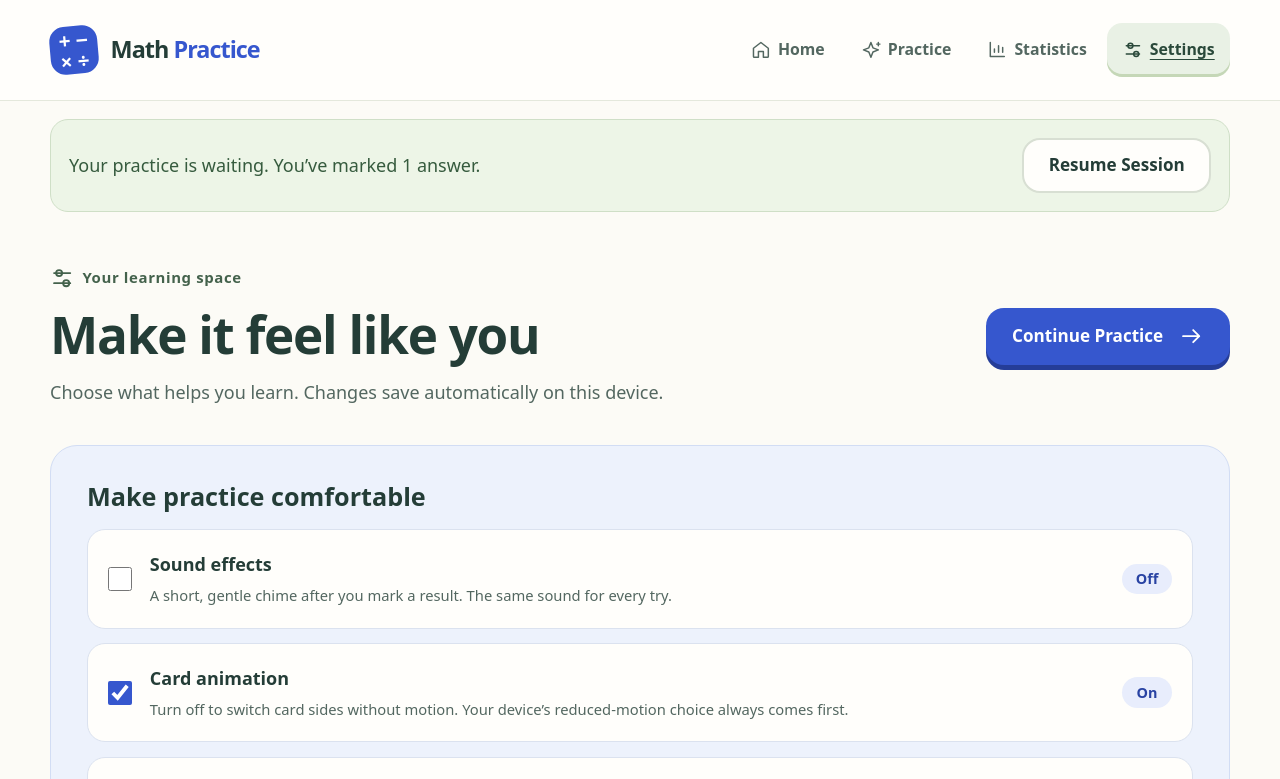
Test: direct access to /settings handles an active recovery safely
This screenshot has width=1280, height=779.
Click the link "Resume Session" at (1117,166), box [1022, 138, 1211, 193]
(page scrolled)
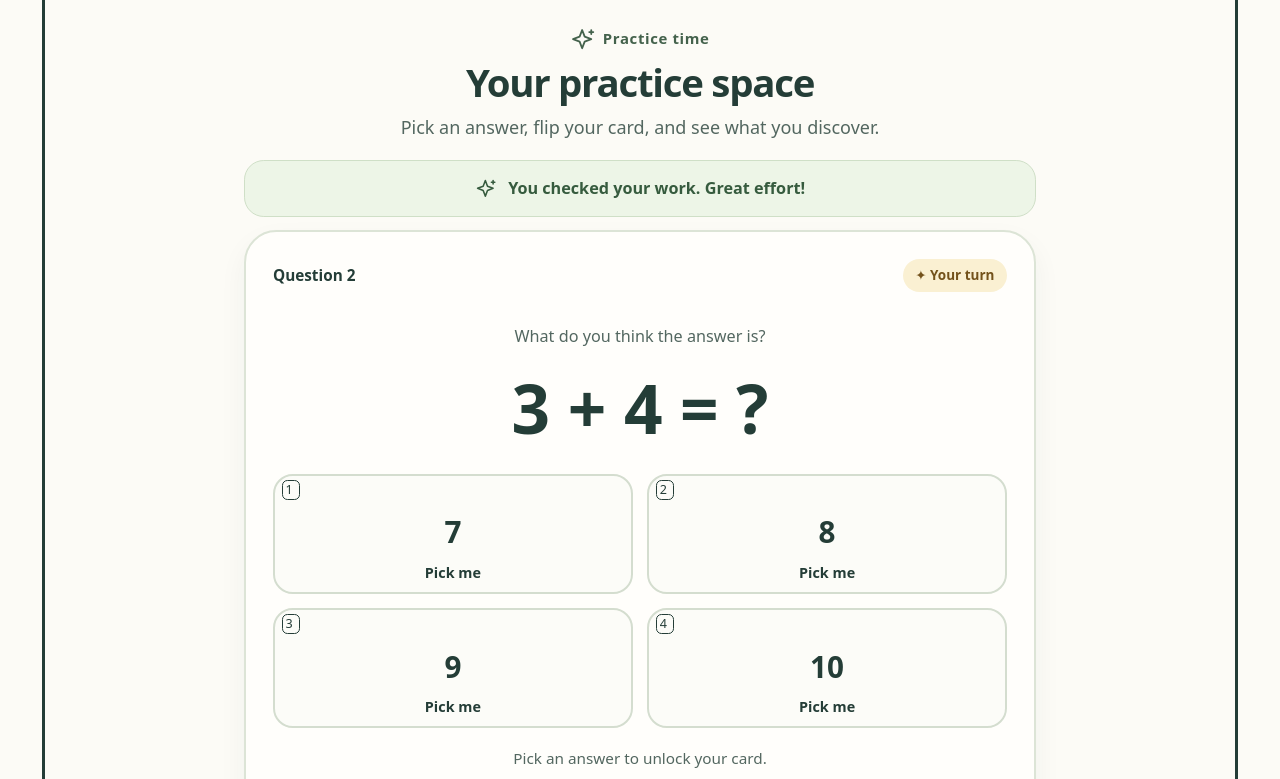
Now the text "Question 2" is shown, box [273, 263, 355, 288]
